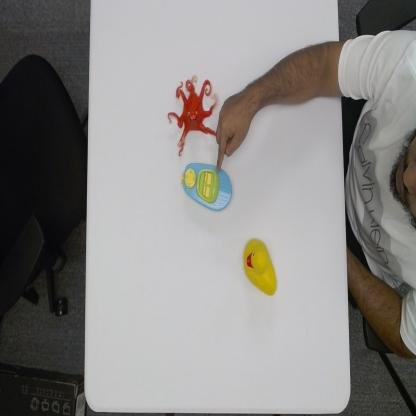Arm: (258, 27, 374, 112)
Boat: (180, 162, 233, 214)
Duck: (243, 235, 278, 298)
Hand: (214, 78, 257, 173)
Octopus: (166, 73, 219, 158)
